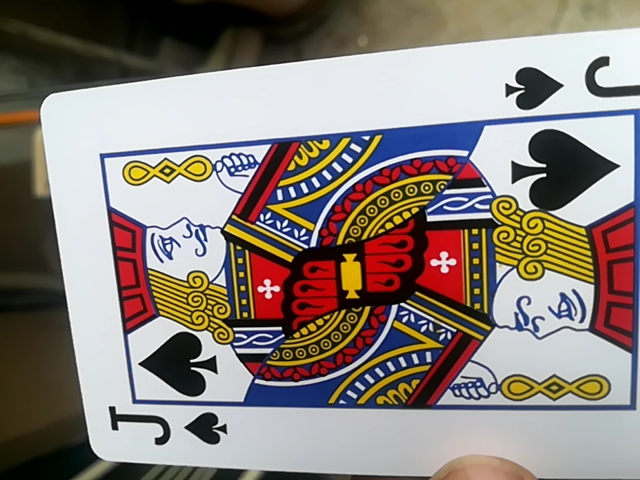ht j: (30, 37, 640, 476)
